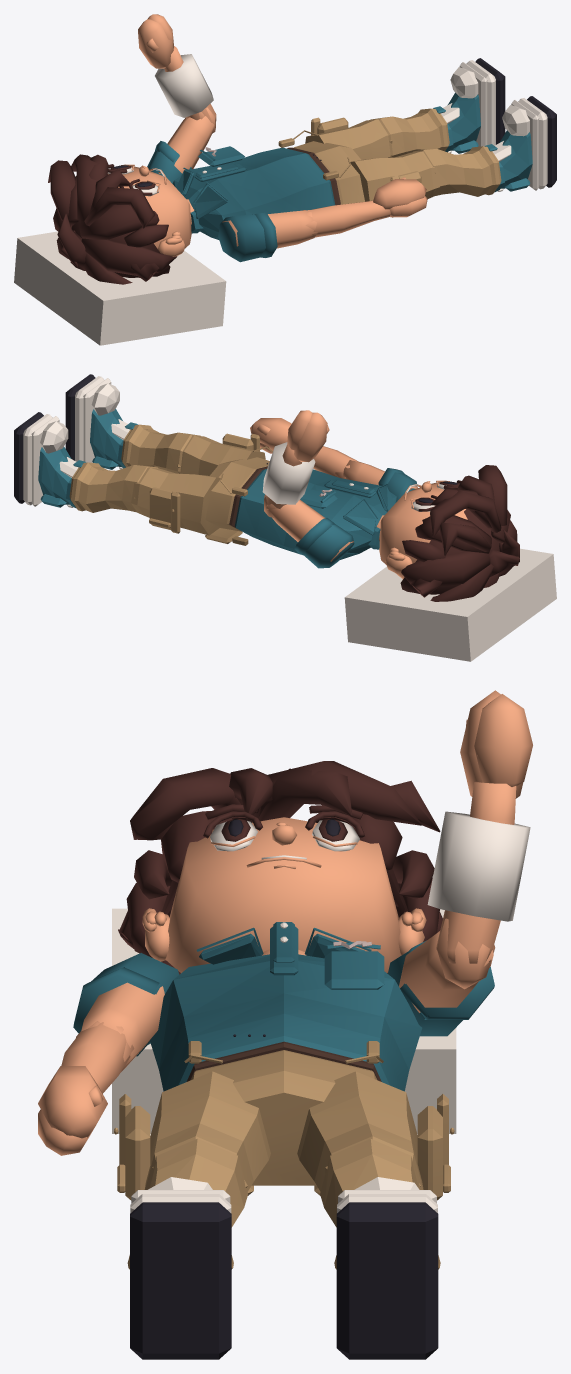
Rendered from npc.shelter-survivor.lying.lod1.glb.
3 views of the same model, one above another, from view 1: azimuth 30°, elevation 25°; view 2: azimuth 150°, elevation 25°; view 3: azimuth 270°, elevation 25° (orthographic). The views are drawn at different scales.
Parts seen in each view (by area): view 1: head, restCushion, torso, footR, footL, armR, shinR, foreArmL, hip, legR, shinL, armL (+4 smaller); view 2: head, restCushion, torso, footL, footR, legL, armL, hip, shinL, shinR, foreArmL, legR (+4 smaller); view 3: head, torso, footL, footR, foreArmL, hip, legR, legL, restCushion, armR, handL, armL (+4 smaller).
Boxes of the visible parts, x1,y1,x2,y2 form: head: (48, 154, 194, 284); restCushion: (14, 231, 226, 345); torso: (172, 146, 335, 239); footR: (485, 96, 556, 192); footL: (433, 58, 505, 153); armR: (218, 210, 317, 262); shinR: (412, 146, 501, 196); foreArmL: (155, 46, 216, 133); hip: (278, 130, 364, 205); legR: (350, 151, 439, 217); shinL: (370, 108, 449, 157); armL: (147, 116, 214, 183); head: (376, 465, 519, 601); restCushion: (344, 548, 556, 661); torso: (235, 469, 398, 559); footL: (14, 412, 85, 508); footR: (65, 374, 137, 469); legL: (131, 467, 220, 535); armL: (266, 500, 354, 568); hip: (205, 446, 272, 545); shinL: (69, 462, 158, 512); shinR: (121, 424, 200, 473); foreArmL: (262, 442, 315, 517); legR: (179, 433, 265, 475); head: (118, 761, 442, 974); torso: (150, 922, 422, 1091); footL: (336, 1177, 438, 1359); footR: (130, 1177, 231, 1359); foreArmL: (427, 781, 530, 989); hip: (184, 1034, 383, 1195); legR: (114, 1071, 270, 1200); legL: (297, 1071, 454, 1200); restCushion: (112, 908, 456, 1133); armR: (73, 953, 179, 1072); handL: (460, 690, 532, 798); armL: (388, 931, 494, 1036).
Size of the model in its own units: 1.81 by 0.8654 by 0.8318.
